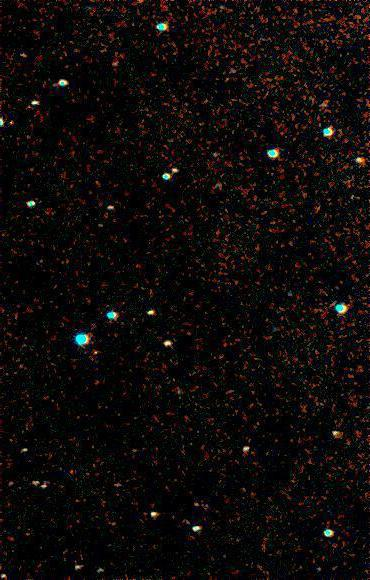star: (13, 524, 43, 554)
